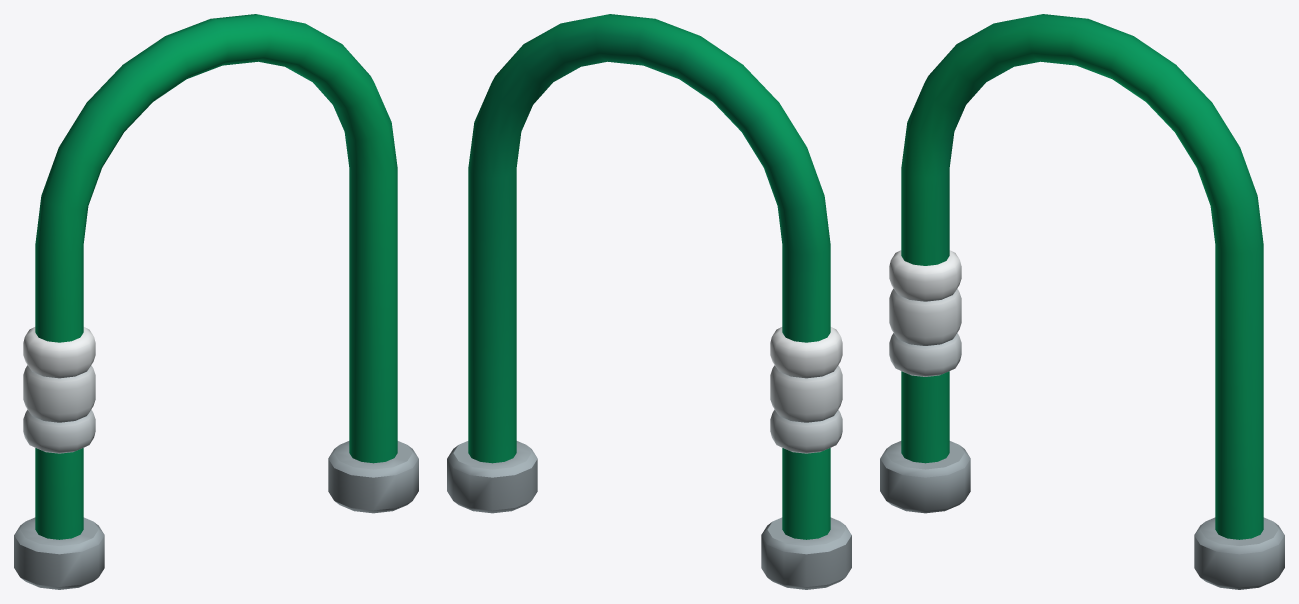
The model's file is arch_tall_green.glb.
3 renders of one model, left to right at view 1: azimuth 30°, elevation 25°; view 2: azimuth 150°, elevation 25°; view 3: azimuth 330°, elevation 25°, orthographic.
Visible parts, largest first — view 1: arch_tall_green; view 2: arch_tall_green; view 3: arch_tall_green.
Part boxes in pixels (x1,y1,x2,y2): arch_tall_green: [14, 14, 418, 589]; arch_tall_green: [447, 14, 851, 589]; arch_tall_green: [880, 14, 1284, 589].
Size of the model in its own units: 3.75 by 4.7 by 0.75.
1 material, 1 textured.
